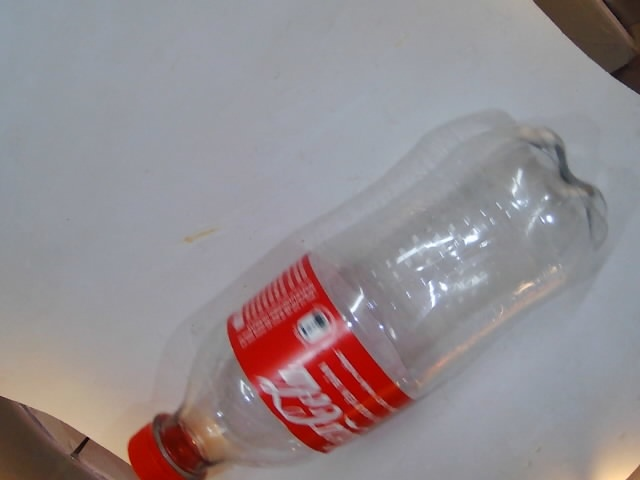plastic: (119, 124, 610, 479)
